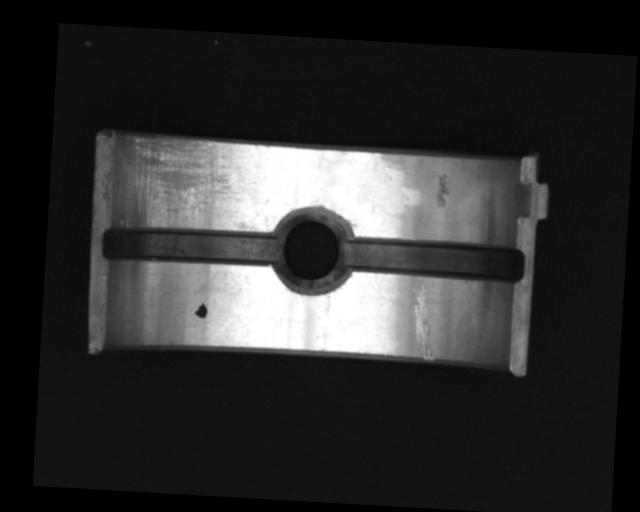blot: (193, 301, 208, 320)
bruise: (431, 172, 452, 209)
gap: (341, 234, 525, 286), (100, 223, 283, 269)
hole: (269, 205, 353, 296)
nick: (409, 285, 438, 360)
scratch: (113, 132, 241, 230)
